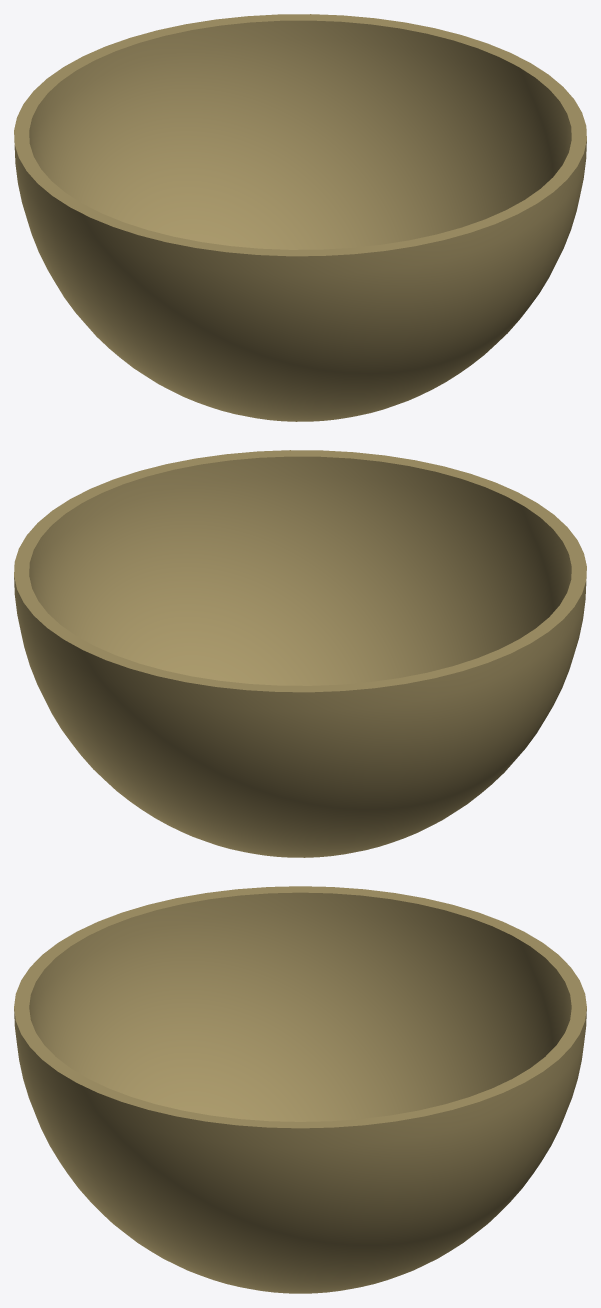
File: water-clock-garden-and-hydraulic-puzzles-sinking-bowl--2f96c8d4__31933.glb
The picture shows the model from 3 angles, top to bottom: view 1: azimuth 30°, elevation 25°; view 2: azimuth 150°, elevation 25°; view 3: azimuth 270°, elevation 25°; orthographic projection.
Visible parts, largest first — view 1: sinking-bowl-clock; view 2: sinking-bowl-clock; view 3: sinking-bowl-clock.
Boxes of the visible parts, bbox=[...] form: sinking-bowl-clock: bbox=[14, 14, 586, 421]; sinking-bowl-clock: bbox=[14, 450, 586, 857]; sinking-bowl-clock: bbox=[14, 886, 586, 1293].
Size of the model in its own units: 0.68 by 0.3395 by 0.68.
